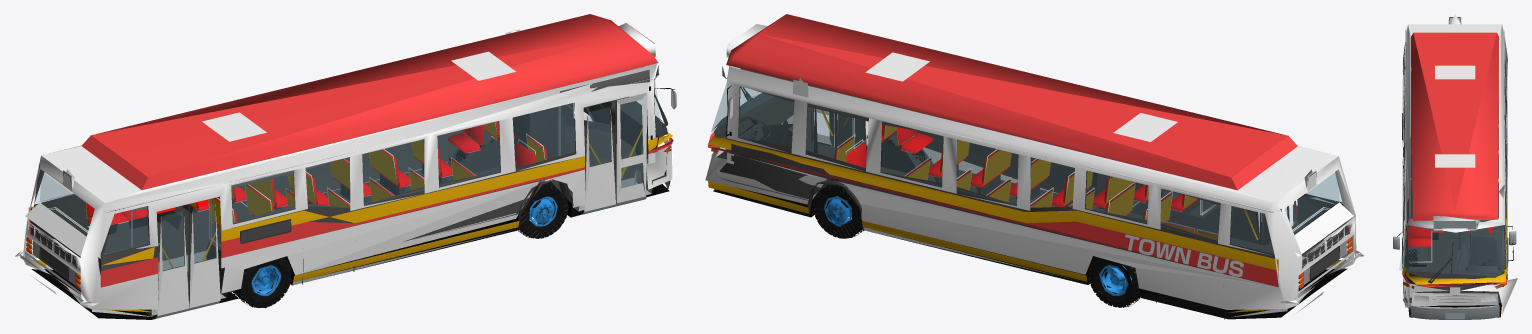
File: bus.glb
The picture shows the model from 3 angles, left to right: view 1: azimuth 30°, elevation 25°; view 2: azimuth 150°, elevation 25°; view 3: azimuth 270°, elevation 25°; orthographic projection. The views are drawn at different scales.
Parts seen in each view (by area): view 1: Object_25, Object_34, Object_16, Object_27, Object_22, Object_33, Object_35, Object_24, Object_6, Object_23, Object_10, Object_12 (+5 smaller); view 2: Object_25, Object_34, Object_16, Object_27, Object_33, Object_22, Object_35, Object_24, Object_6, Object_11, Object_14, Object_23 (+4 smaller); view 3: Object_34, Object_25, Object_16, Object_22, Object_27, Object_17, Object_33, Object_23, Object_24, Object_26, Object_5, Object_3 (+8 smaller).
Boxes of the visible parts, <box> form: Object_25: <box>23,23,674,317</box>; Object_34: <box>29,14,673,287</box>; Object_16: <box>35,78,663,270</box>; Object_27: <box>30,66,649,311</box>; Object_22: <box>71,97,671,315</box>; Object_33: <box>28,132,672,312</box>; Object_35: <box>86,122,642,268</box>; Object_24: <box>86,121,547,227</box>; Object_6: <box>31,145,669,319</box>; Object_23: <box>39,65,667,307</box>; Object_10: <box>518,179,569,238</box>; Object_12: <box>235,257,291,308</box>; Object_25: <box>705,24,1356,317</box>; Object_34: <box>707,14,1349,287</box>; Object_16: <box>711,66,1341,253</box>; Object_27: <box>720,69,1348,281</box>; Object_33: <box>708,135,1345,312</box>; Object_22: <box>711,93,1342,253</box>; Object_35: <box>821,110,1268,240</box>; Object_24: <box>834,124,1218,236</box>; Object_6: <box>713,145,1347,319</box>; Object_11: <box>813,179,862,238</box>; Object_14: <box>1088,256,1142,307</box>; Object_23: <box>713,66,1339,279</box>; Object_34: <box>1402,32,1507,286</box>; Object_25: <box>1402,14,1517,310</box>; Object_16: <box>1399,57,1505,276</box>; Object_22: <box>1402,42,1508,302</box>; Object_27: <box>1403,48,1507,293</box>; Object_17: <box>1404,159,1505,319</box>; Object_33: <box>1402,177,1507,314</box>; Object_23: <box>1402,17,1508,285</box>; Object_24: <box>1405,218,1493,246</box>; Object_26: <box>1409,216,1480,294</box>; Object_5: <box>1433,220,1476,229</box>; Object_3: <box>1434,221,1475,229</box>.
Bounding box in the file's own units: 131 × 32.36 × 32.33.
Materials: 20 (3 with a texture image).
